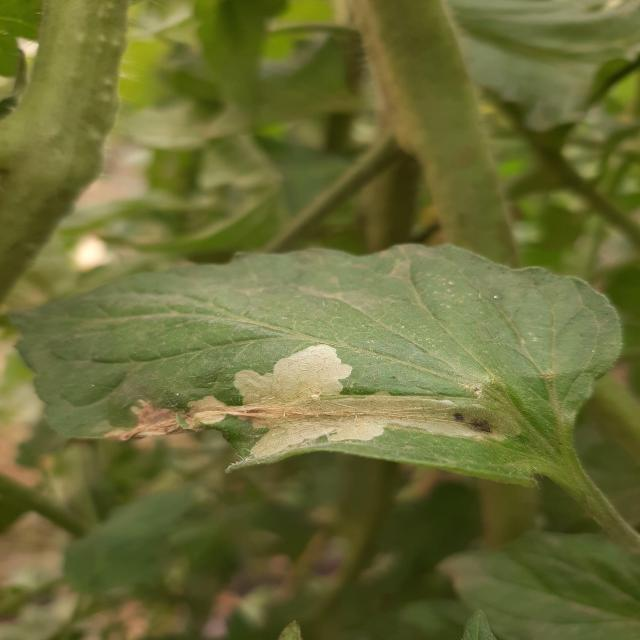Tuta absoluta: (105, 345, 500, 458)
